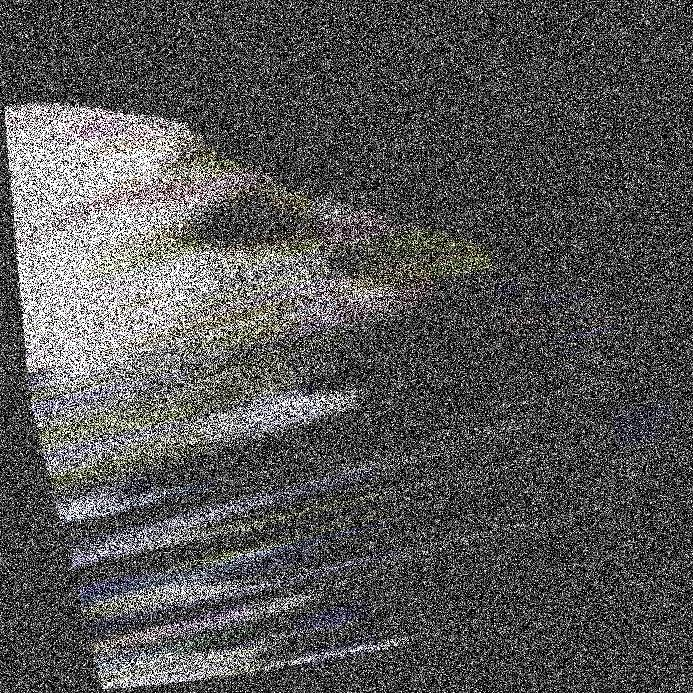Pessoa: (55, 0, 521, 692)
